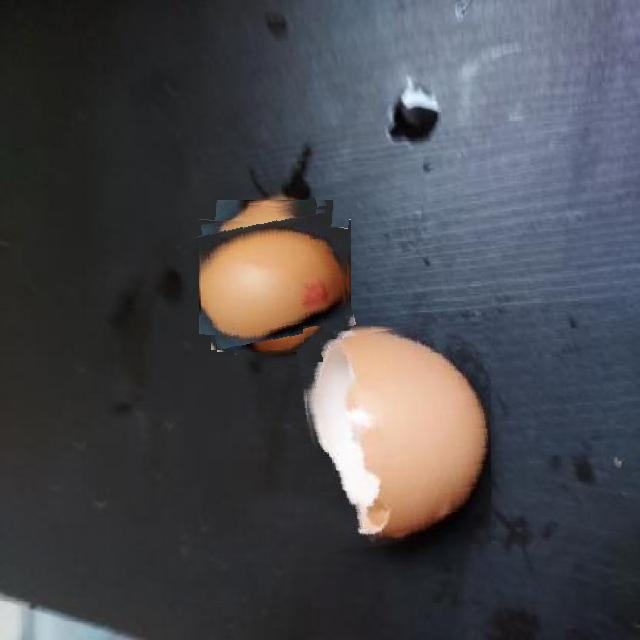biodegradable: (303, 326, 491, 548), (202, 202, 350, 350)
